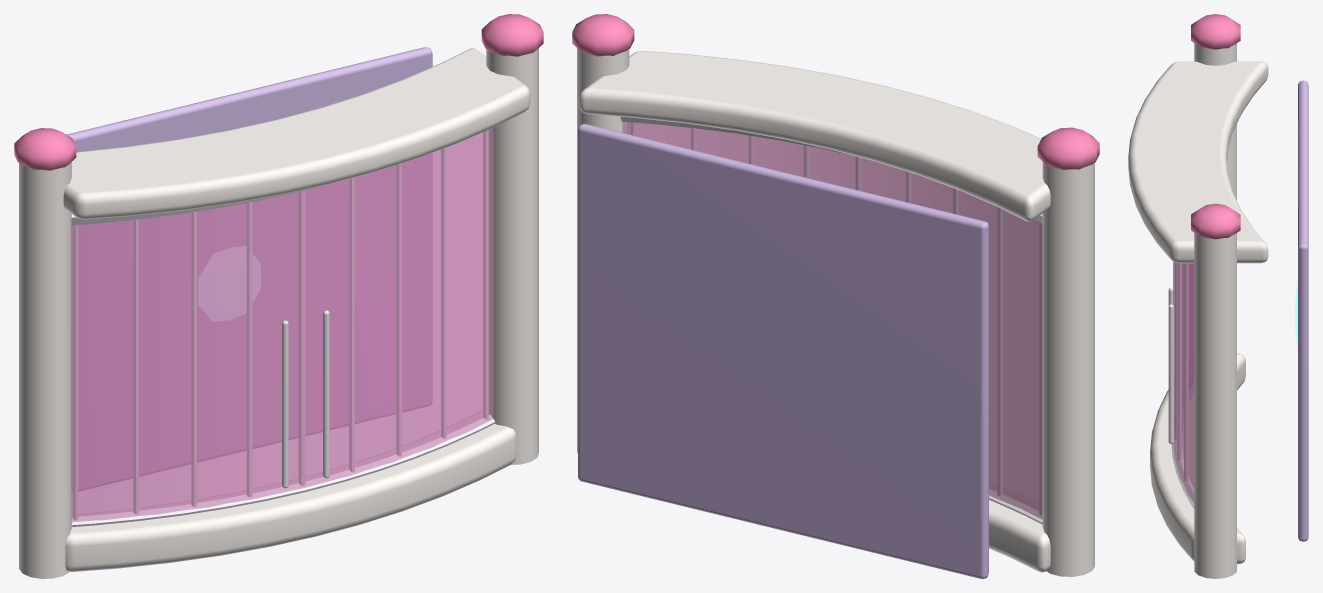
The model's file is storefront_glass.glb.
3 renders of one model, left to right at view 1: azimuth 30°, elevation 25°; view 2: azimuth 150°, elevation 25°; view 3: azimuth 270°, elevation 25°, orthographic. The views are drawn at different scales.
Parts seen in each view (by area): view 1: storefront_glass; view 2: storefront_glass; view 3: storefront_glass.
Boxes of the visible parts, left/top/right/bottom form: storefront_glass: left=14, top=14, right=543, bottom=578; storefront_glass: left=572, top=14, right=1099, bottom=578; storefront_glass: left=1128, top=14, right=1308, bottom=578.
Bounding box in the file's own units: 4.58 × 3.65 × 1.65.
